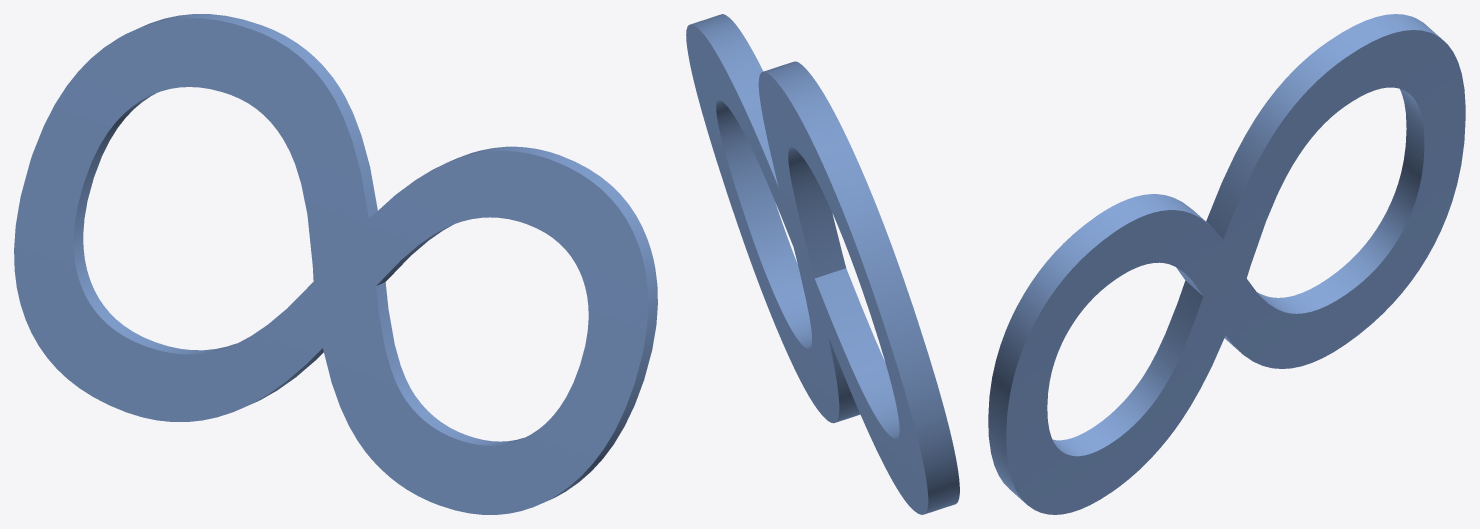
The model's file is New_Number_8.gltf.
3 views of the same model, side by side, from view 1: azimuth 30°, elevation 25°; view 2: azimuth 150°, elevation 25°; view 3: azimuth 270°, elevation 25° (orthographic). The views are drawn at different scales.
Visible parts, largest first — view 1: Part 395; view 2: Part 395; view 3: Part 395.
Boxes of the visible parts, x1,y1,x2,y2 form: Part 395: [14, 14, 657, 514]; Part 395: [686, 14, 959, 514]; Part 395: [988, 14, 1465, 514].
Bounding box in the file's own units: 0.00436 × 0.00407 × 0.00422.
